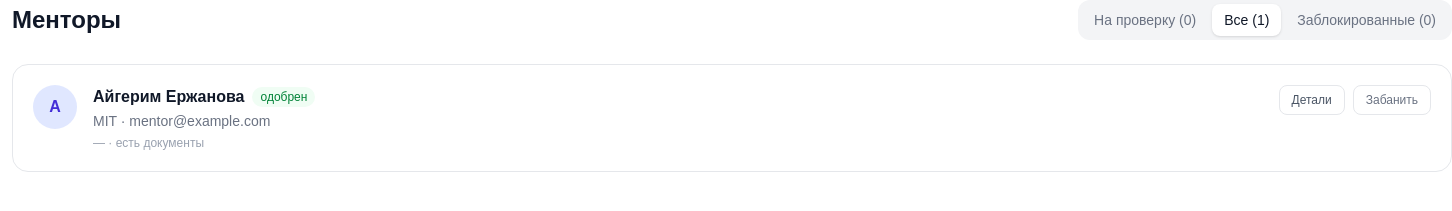
it: CRMMentorsPage › shows the empty state for the current category, not a global empty state
Expected: the link "Айгерим Ержанова" is shown, [93,85,244,109]
Click the button "На проверку (0)" at (1145, 20), box [1082,4,1208,36]
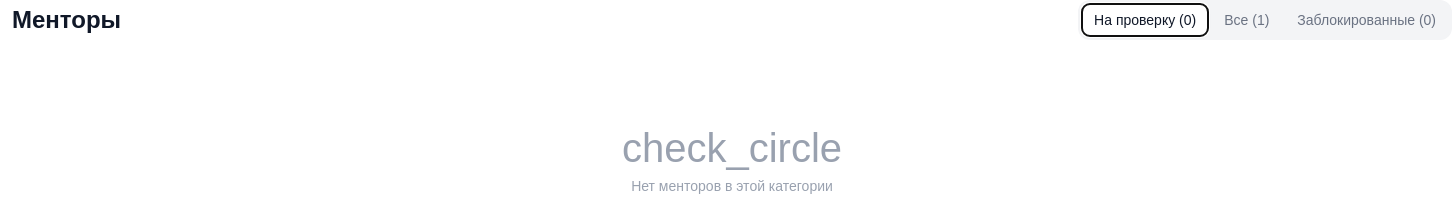
Expected: the text "Нет менторов в этой категории" is shown, [631,178,833,194]
